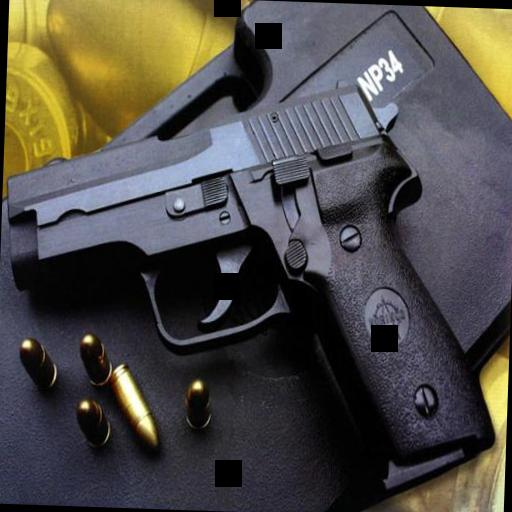Handgun: (0, 64, 504, 485)
